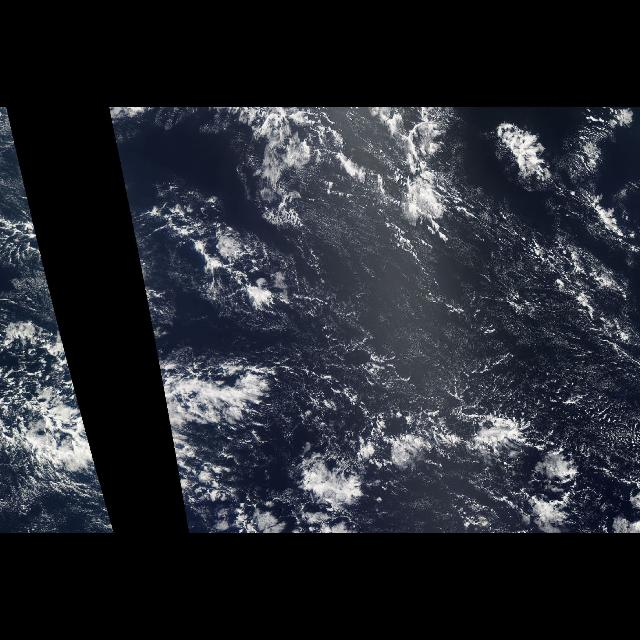Sugar: (308, 250, 634, 408)
